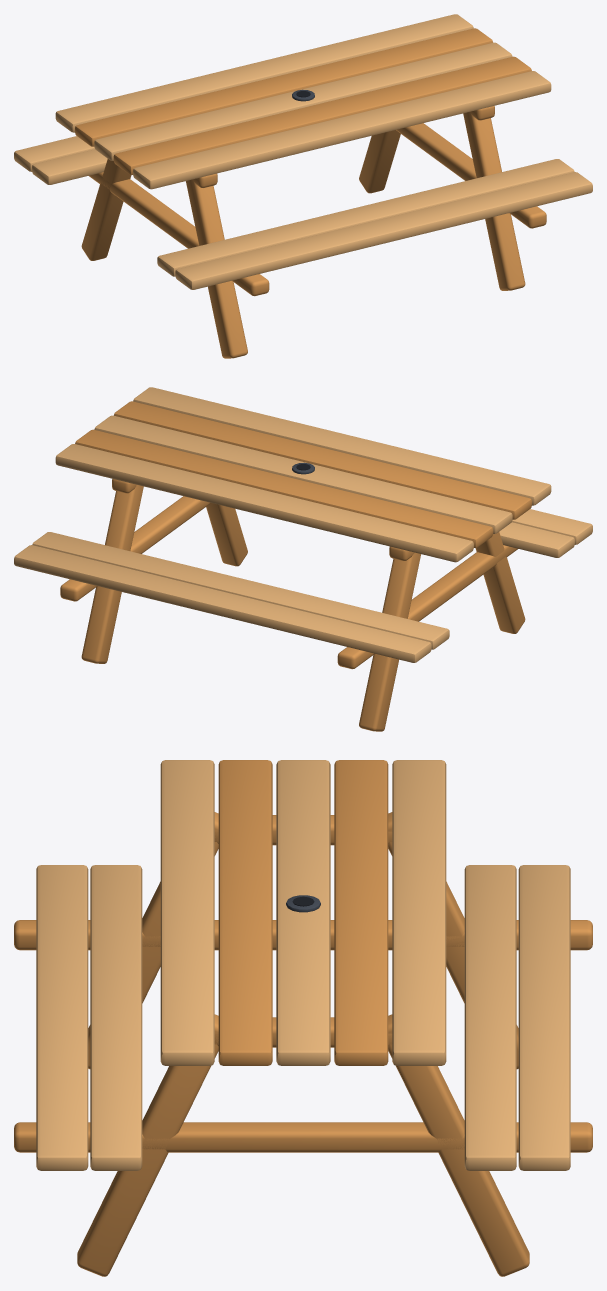
File: mesa_praca.glb
3 views of the same model, one above another, from view 1: azimuth 30°, elevation 25°; view 2: azimuth 150°, elevation 25°; view 3: azimuth 270°, elevation 25° (orthographic). The views are drawn at different scales.
Parts seen in each view (by area): view 1: mesa_praca; view 2: mesa_praca; view 3: mesa_praca.
Part boxes in pixels (x1,y1,x2,y2): mesa_praca: [14, 14, 592, 358]; mesa_praca: [14, 387, 592, 731]; mesa_praca: [14, 760, 592, 1276].
Size of the model in its own units: 1.8 by 0.7714 by 1.5.
Materials: 1 (1 with a texture image).
